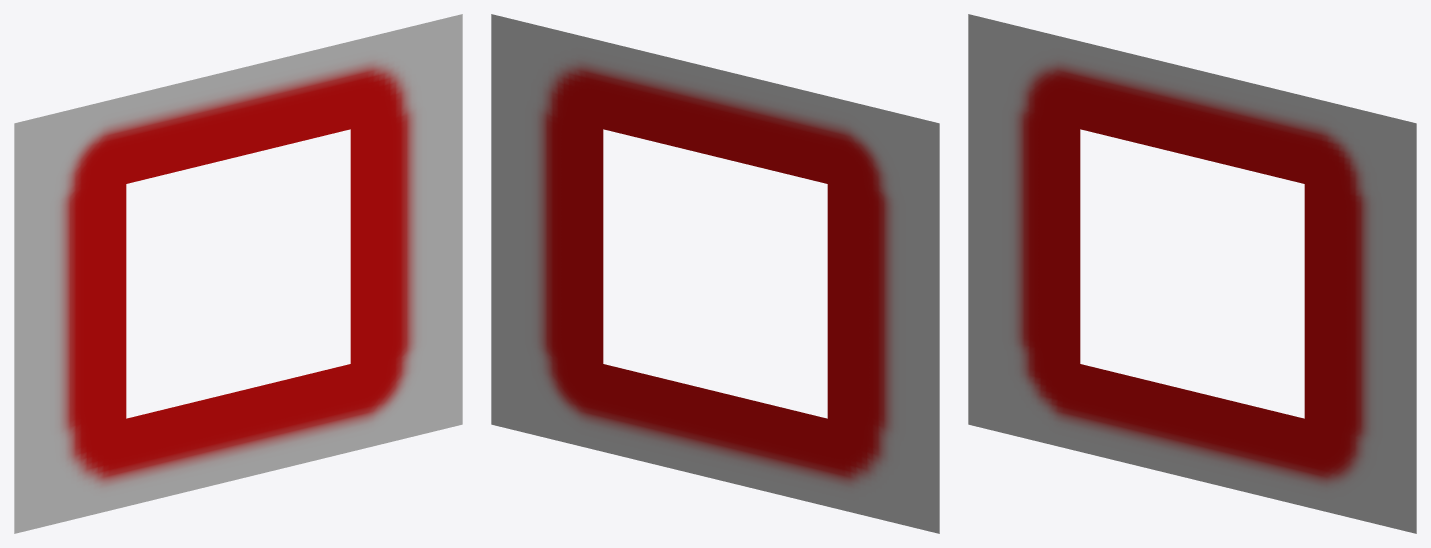
The model's file is wall_window_400x350_07.fbx.
The picture shows the model from 3 angles, left to right: view 1: azimuth 30°, elevation 25°; view 2: azimuth 150°, elevation 25°; view 3: azimuth 330°, elevation 25°; orthographic projection.
Parts seen in each view (by area): view 1: wall_window_400x350_07; view 2: wall_window_400x350_07; view 3: wall_window_400x350_07.
Part boxes in pixels (x1,y1,x2,y2): wall_window_400x350_07: (14,14,462,533); wall_window_400x350_07: (491,14,939,533); wall_window_400x350_07: (968,14,1416,533).
Size of the model in its own units: 4 by 3.5 by 0.
